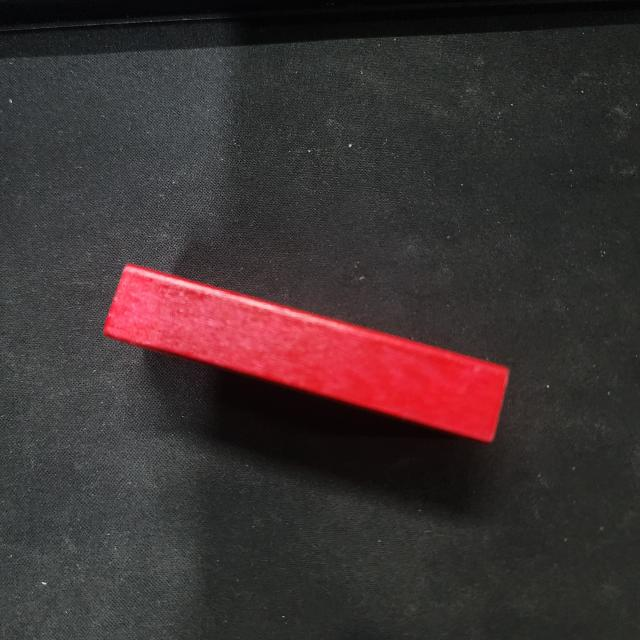red: (102, 261, 513, 445)
